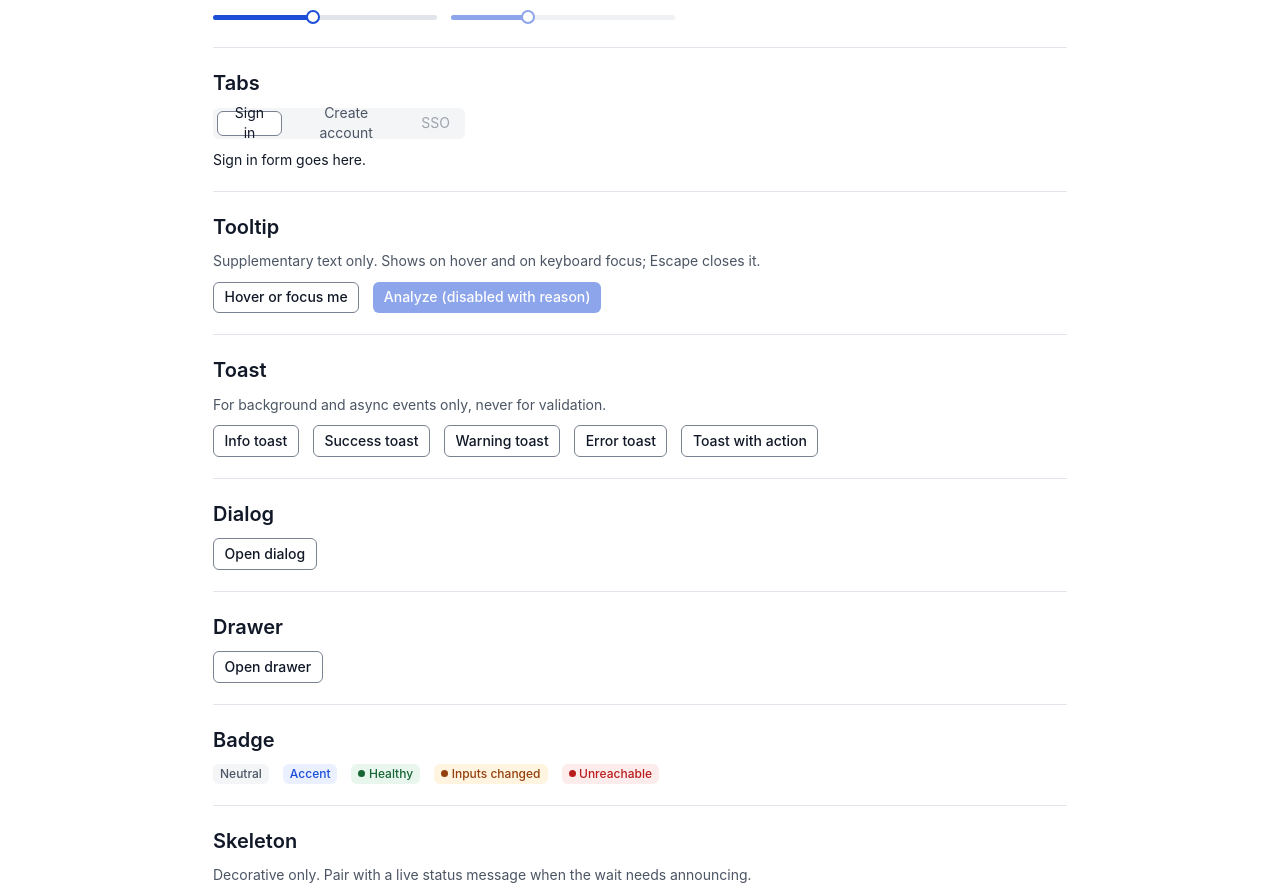
Test: DevUiPage › fires each toast tone on demand
This screenshot has width=1280, height=890.
(page scrolled)
What coordinates should you click on to do the following:
click the button "Success toast"
I would click on:
 (372, 441)
Its box is [313,425,430,456].
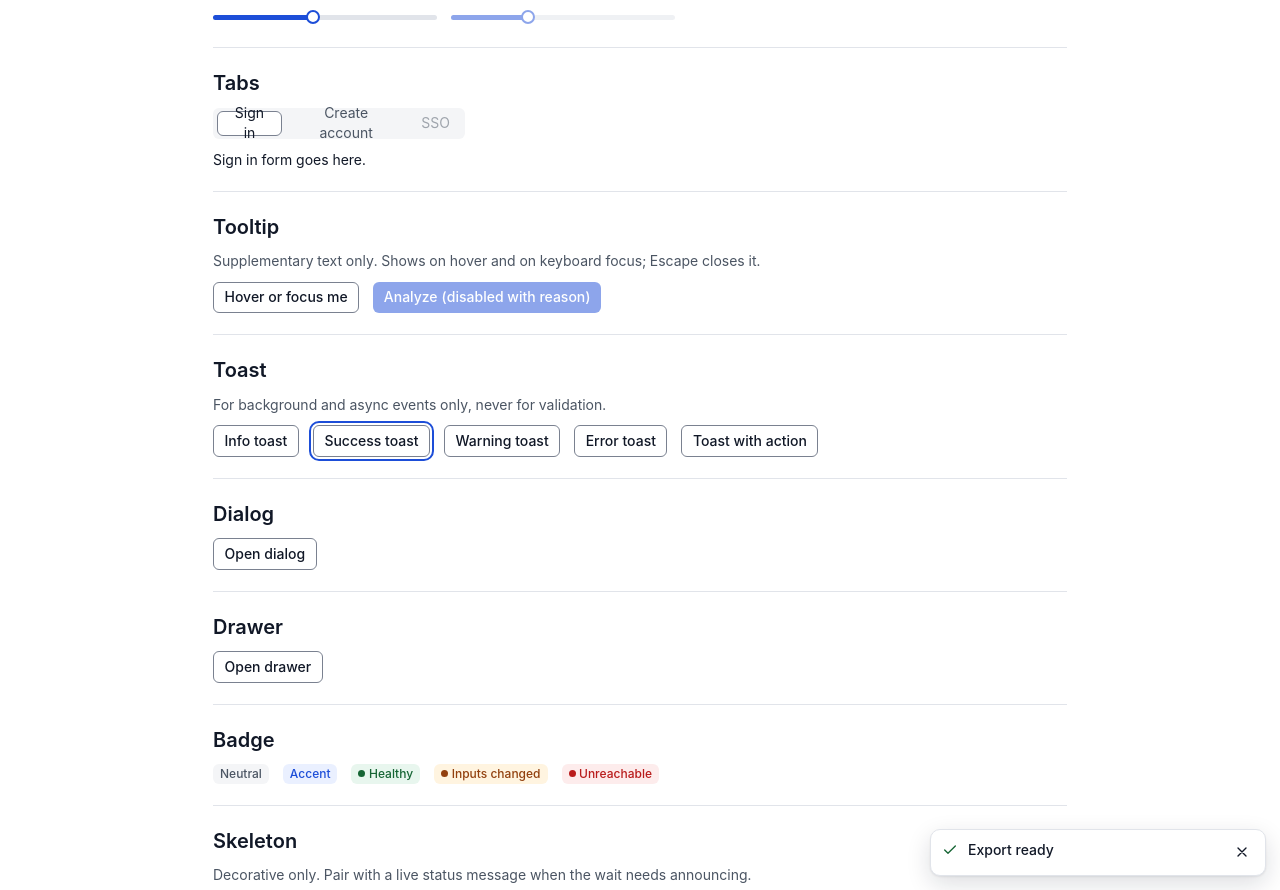
Expected: the text "Export ready" is shown, [967,840,1054,858]
